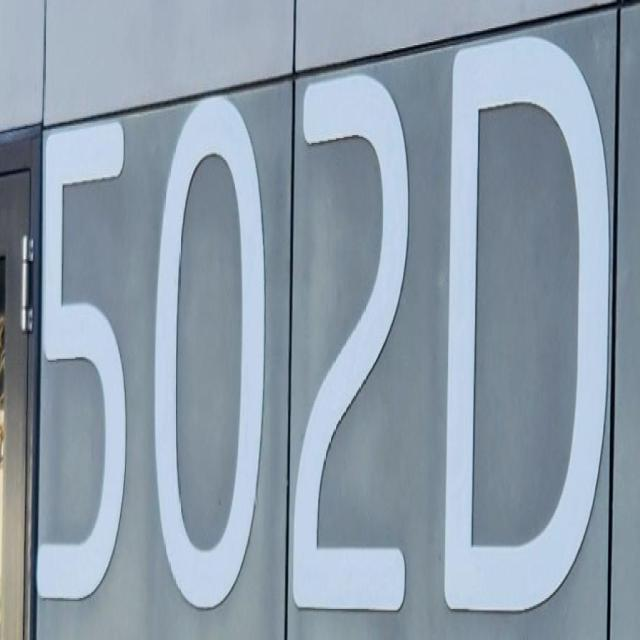character: (440, 31, 612, 621), (290, 66, 412, 614), (153, 90, 268, 613), (34, 116, 130, 607)
